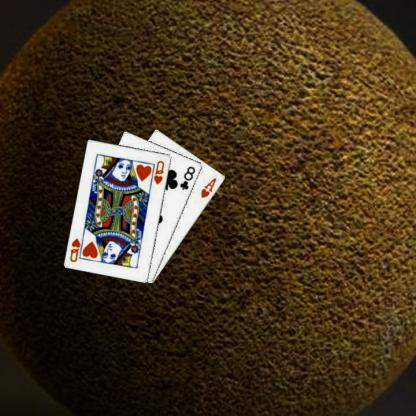8C: (179, 164, 198, 191)
AH: (200, 175, 219, 199)
QH: (69, 233, 87, 263), (153, 158, 168, 185)
